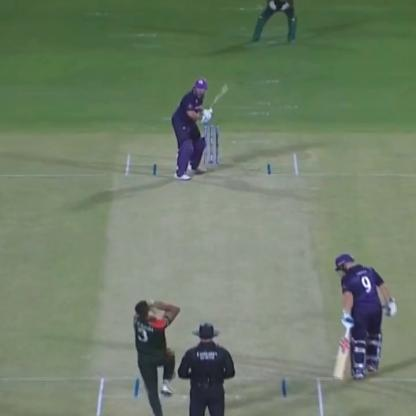ball: (152, 310, 164, 325), (149, 295, 161, 308)
bat: (330, 316, 355, 382), (207, 78, 240, 110)
pitch: (88, 142, 332, 416)
